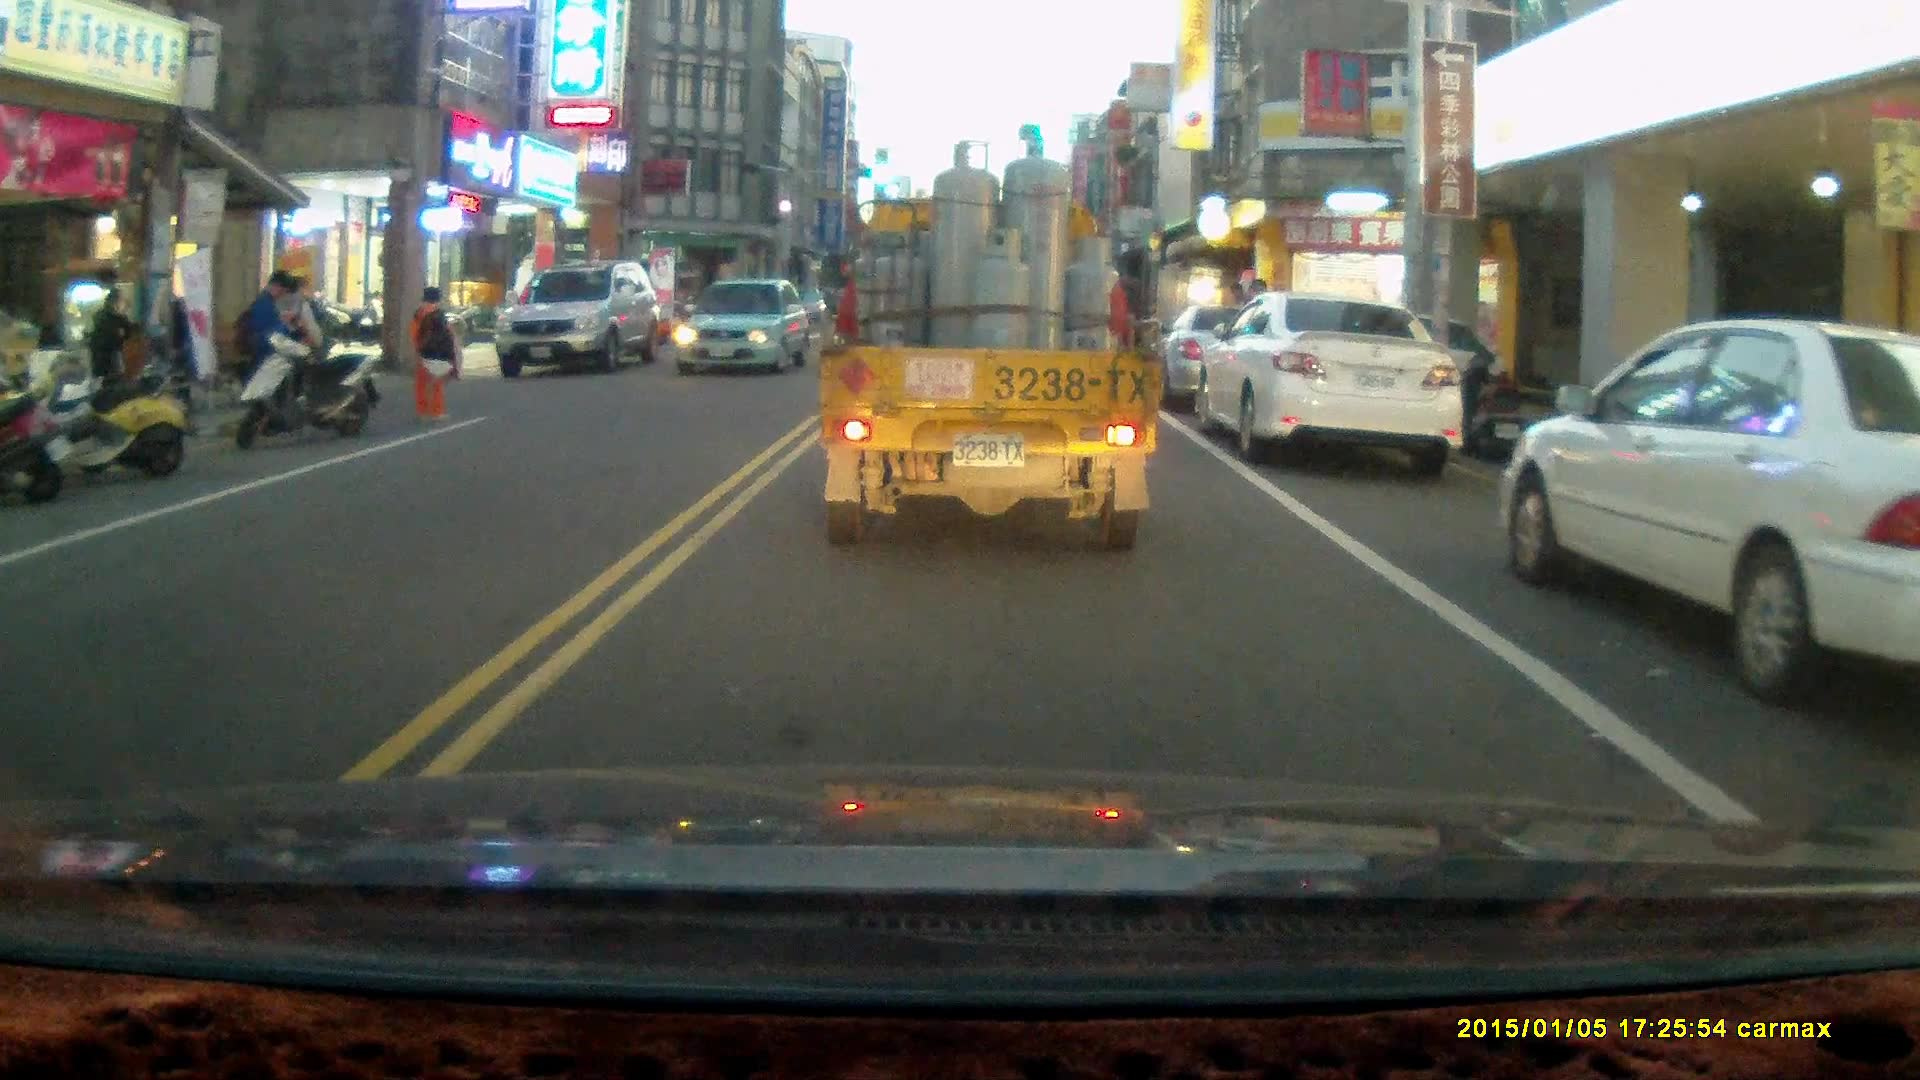pedestrian: (223, 272, 294, 438), (404, 284, 465, 418), (83, 284, 129, 439)
vehicle: (1498, 318, 1920, 699), (818, 135, 1167, 556), (1194, 292, 1464, 470), (1147, 300, 1349, 416), (495, 261, 661, 382), (674, 279, 810, 378)
